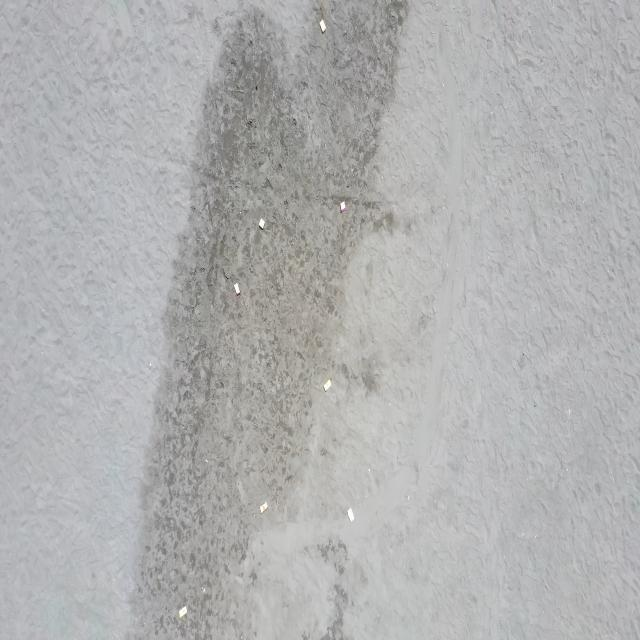Garbage: (323, 379, 331, 391), (347, 507, 353, 520), (221, 267, 227, 279), (340, 200, 346, 212), (179, 606, 186, 616), (233, 282, 239, 293), (260, 503, 267, 512), (320, 19, 324, 32), (258, 219, 263, 228), (201, 586, 204, 592), (204, 457, 207, 463)
